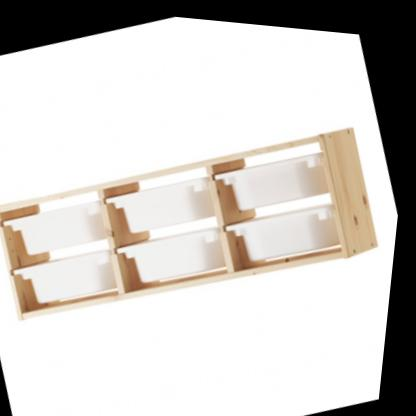Cabinet: (0, 81, 400, 356)
